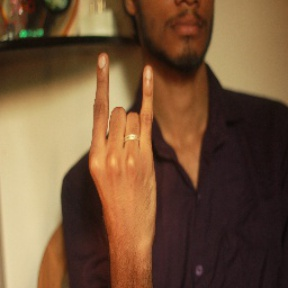V: (84, 52, 166, 218)
